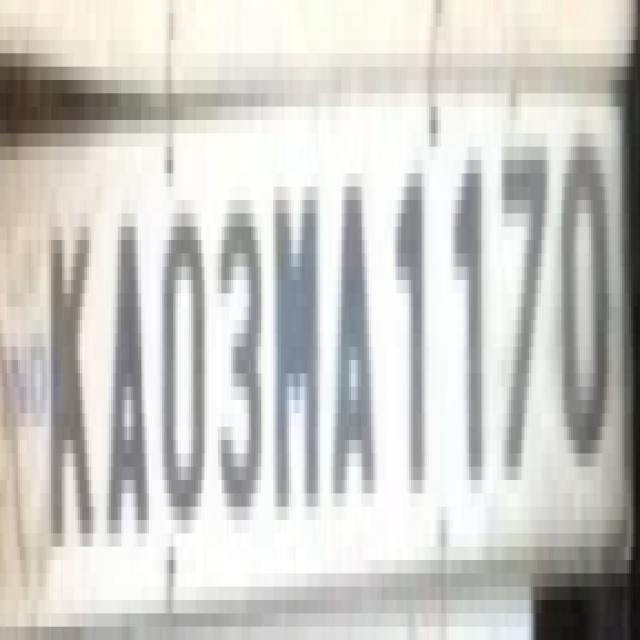0: (560, 119, 615, 534), (160, 180, 207, 546)
1: (450, 119, 487, 540), (390, 142, 432, 512)
3: (212, 176, 264, 540)
7: (498, 119, 551, 498)
A: (106, 195, 154, 574), (332, 168, 378, 534)
K: (44, 191, 93, 595)
M: (272, 168, 326, 540)
